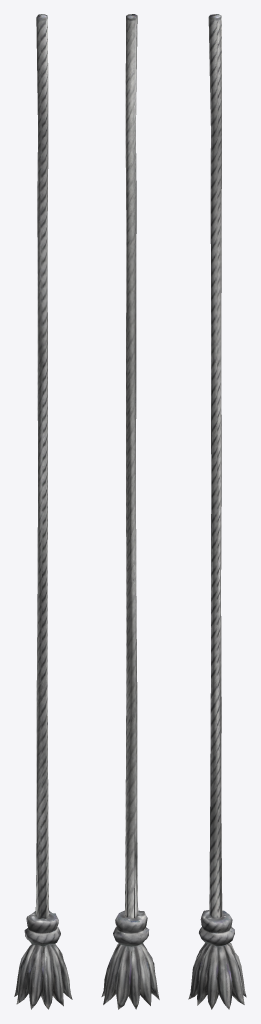
The model's file is Cuerda.fbx.
The picture shows the model from 3 angles, left to right: view 1: azimuth 30°, elevation 25°; view 2: azimuth 210°, elevation 25°; view 3: azimuth 330°, elevation 25°; orthographic projection.
Visible parts, largest first — view 1: mesh_node; view 2: mesh_node; view 3: mesh_node.
Part boxes in pixels (x1,y1,x2,y2): mesh_node: (14, 14, 72, 1009); mesh_node: (101, 14, 159, 1009); mesh_node: (188, 14, 246, 1009).
Size of the model in its own units: 5.74 by 100 by 4.81.
1 material, 1 textured.
